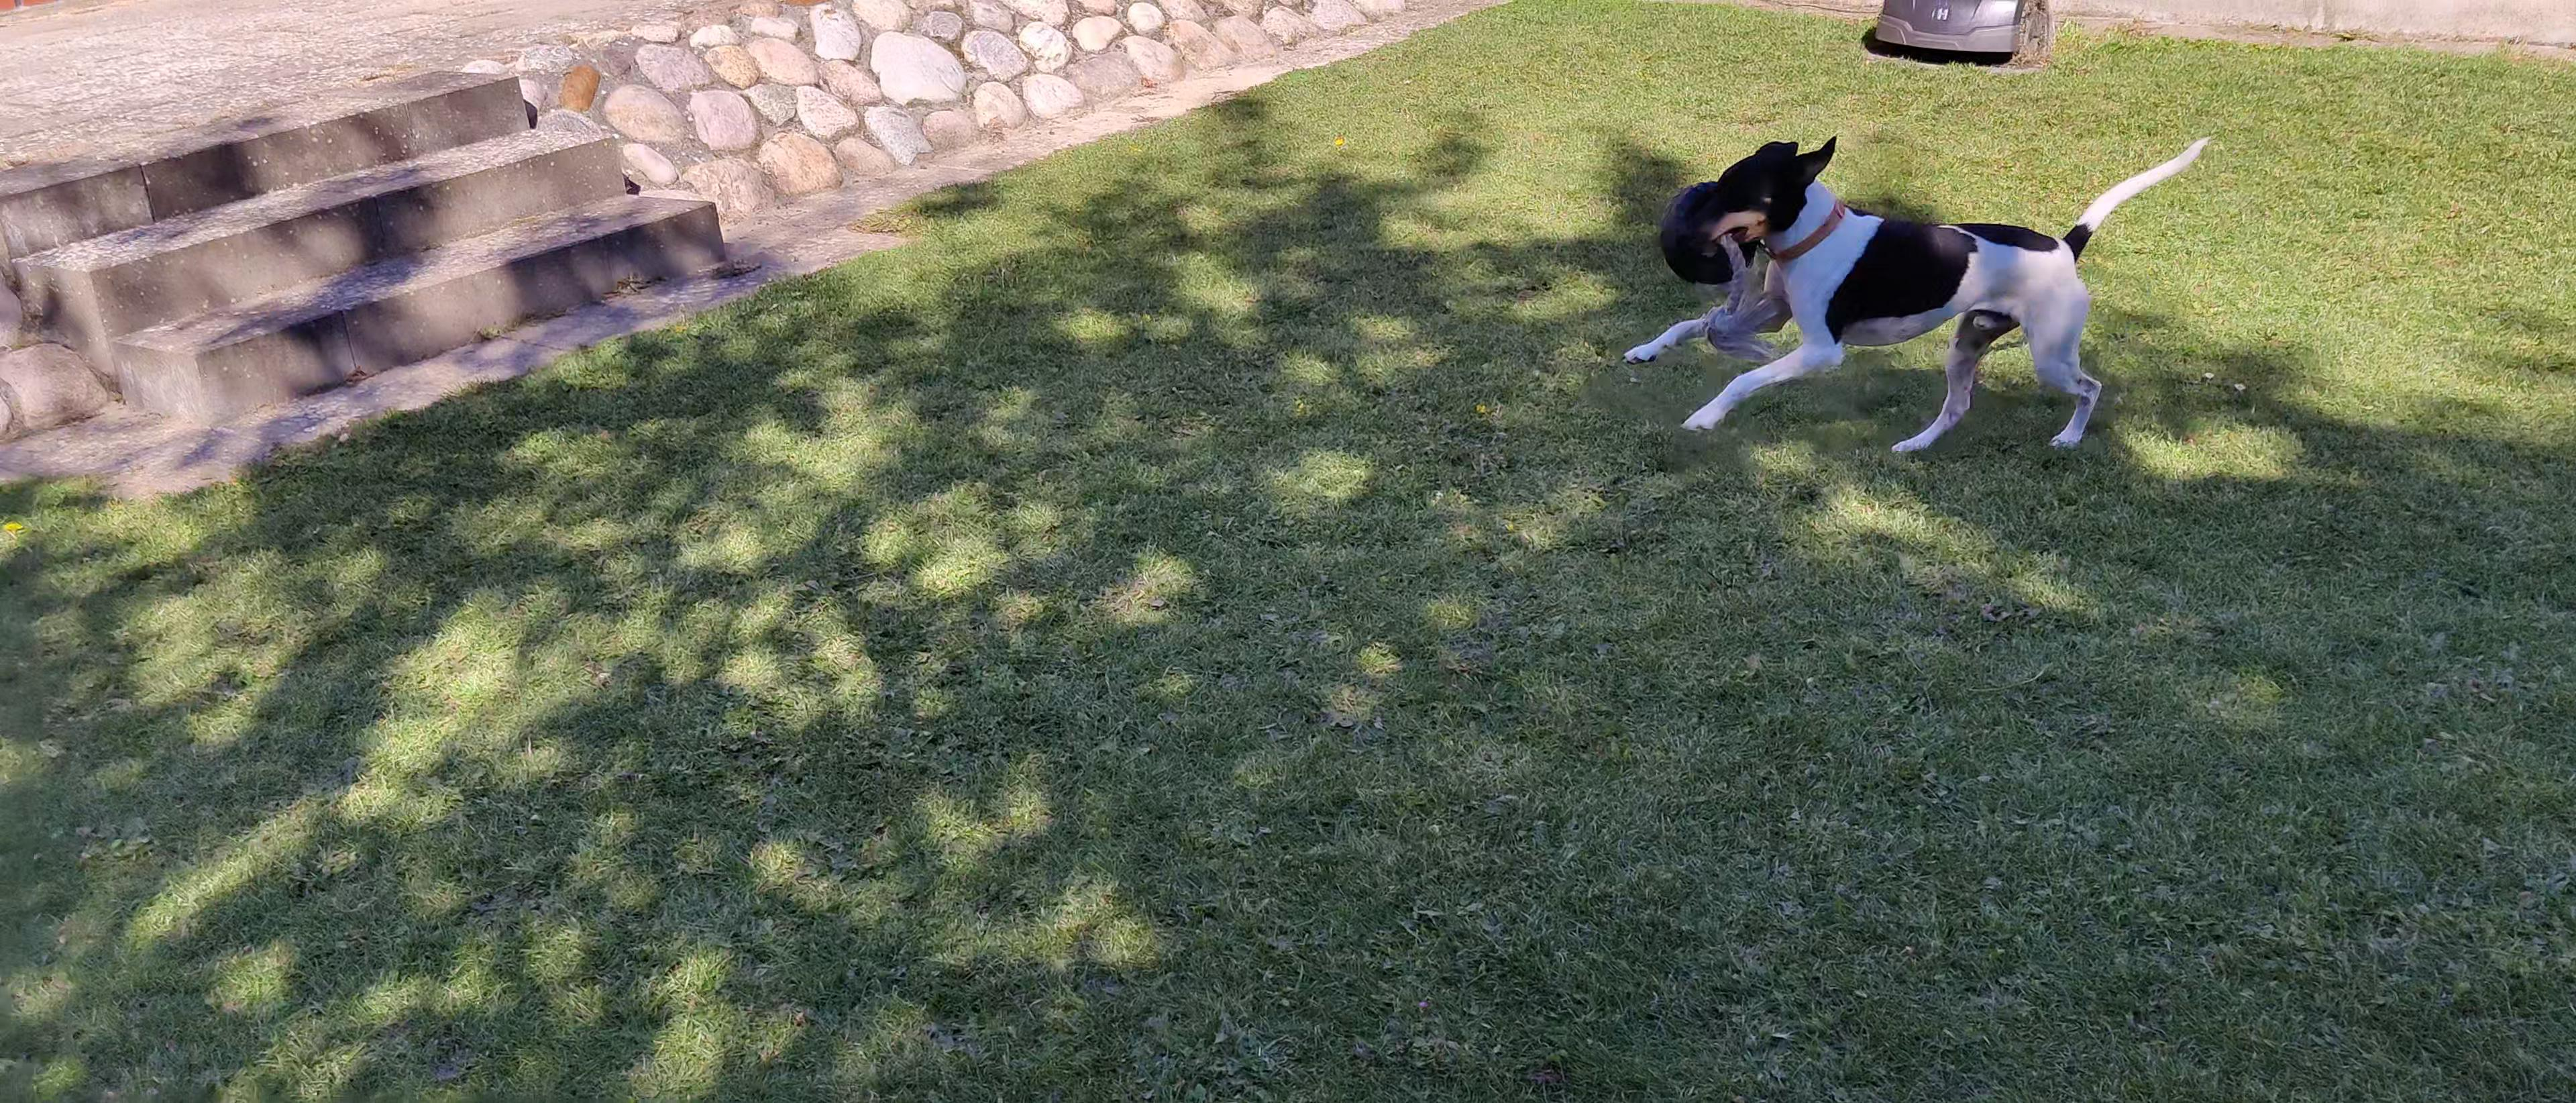Dog: (1608, 125, 2218, 460)
